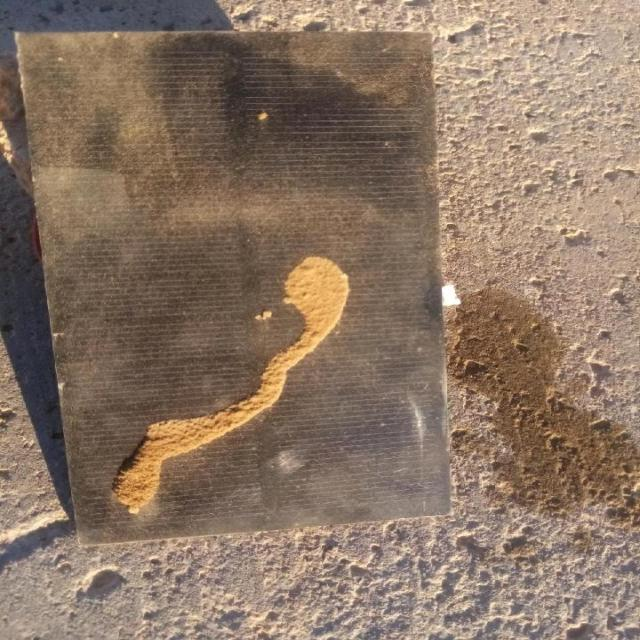faulty: (18, 25, 456, 540)
